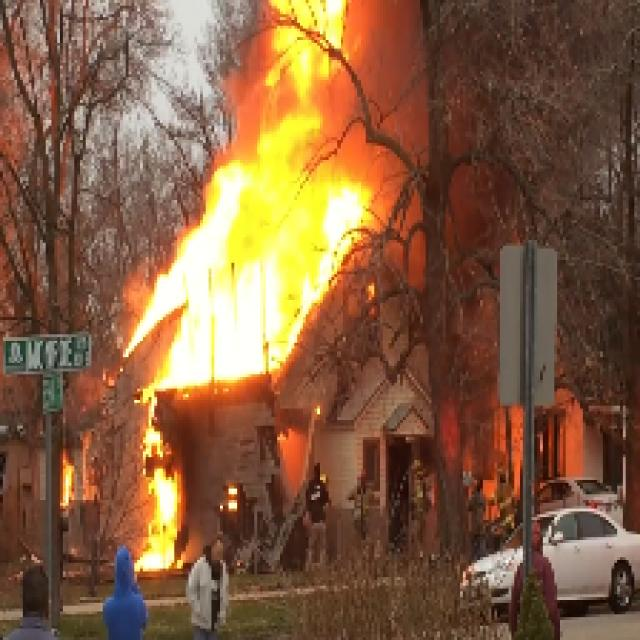fire: (153, 191, 362, 379), (248, 1, 332, 190)
